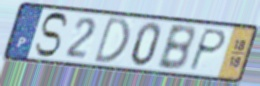0: (130, 20, 163, 69)
2: (63, 16, 99, 61)
B: (154, 24, 196, 73)
D: (91, 15, 131, 65)
P: (186, 27, 229, 73)
S: (33, 11, 70, 59)
